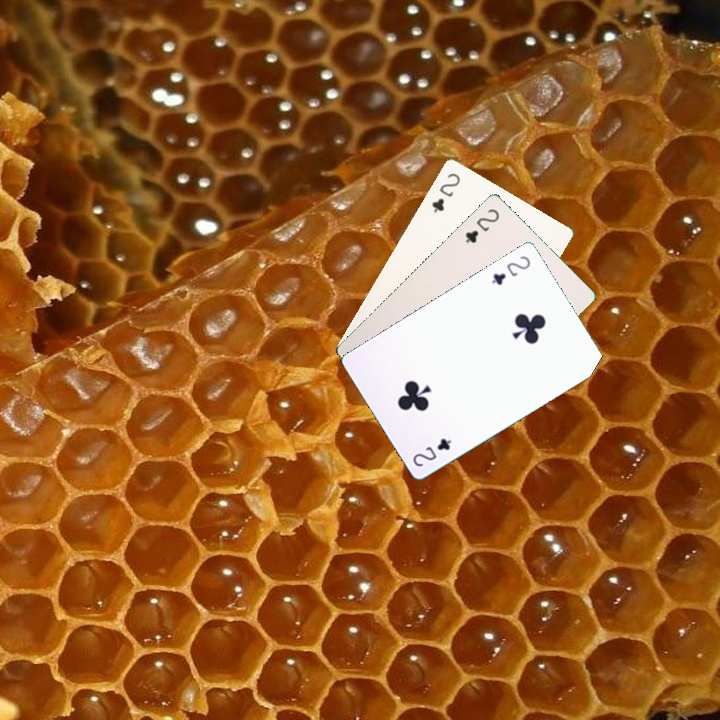2c: (461, 204, 502, 246), (427, 169, 463, 215), (487, 252, 533, 288), (408, 434, 454, 469)
